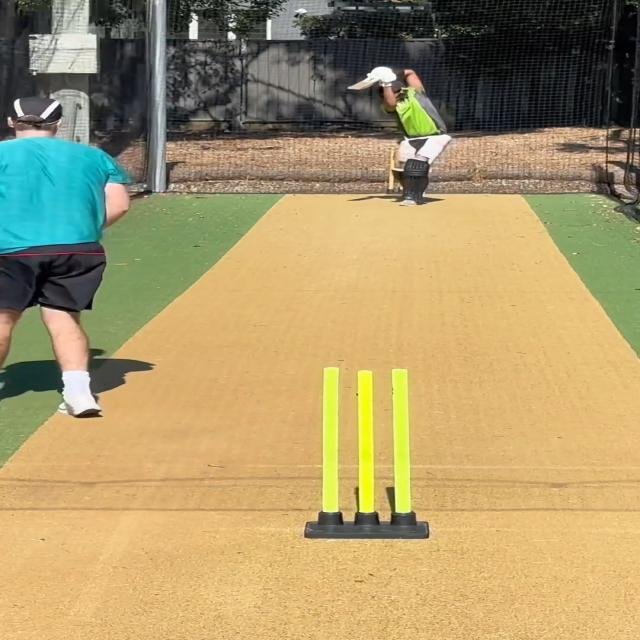stump: (303, 366, 431, 540)
